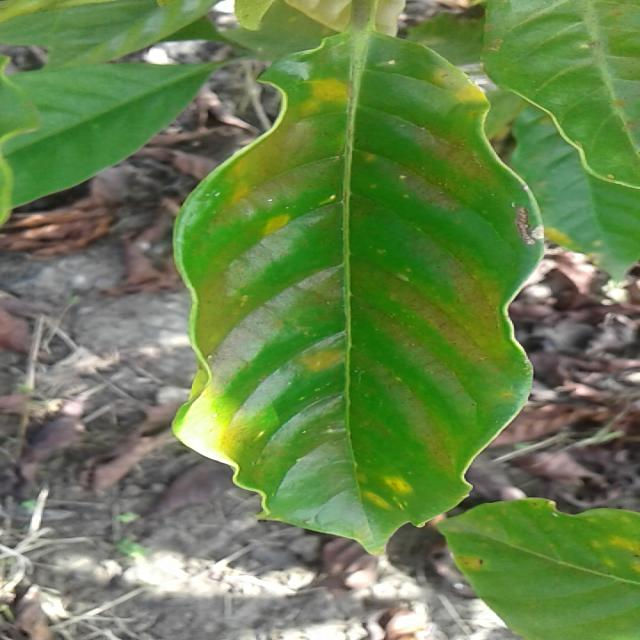Enfermedad-Roya: (169, 31, 548, 556)
